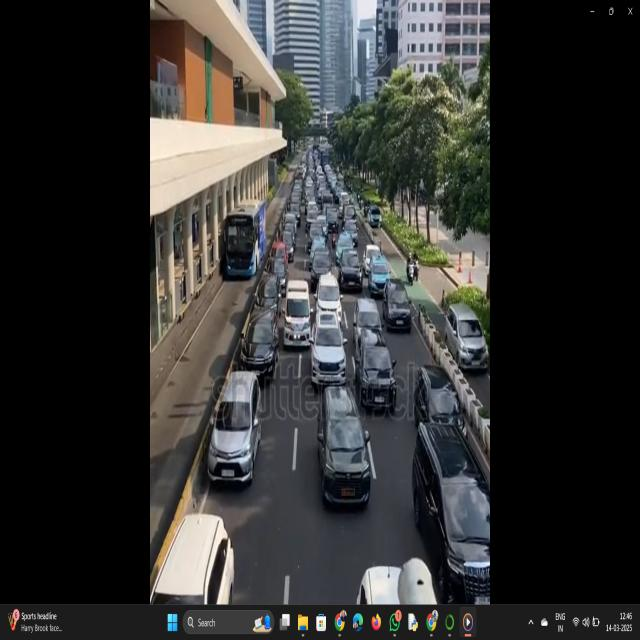Ambulance: (281, 270, 312, 349)
